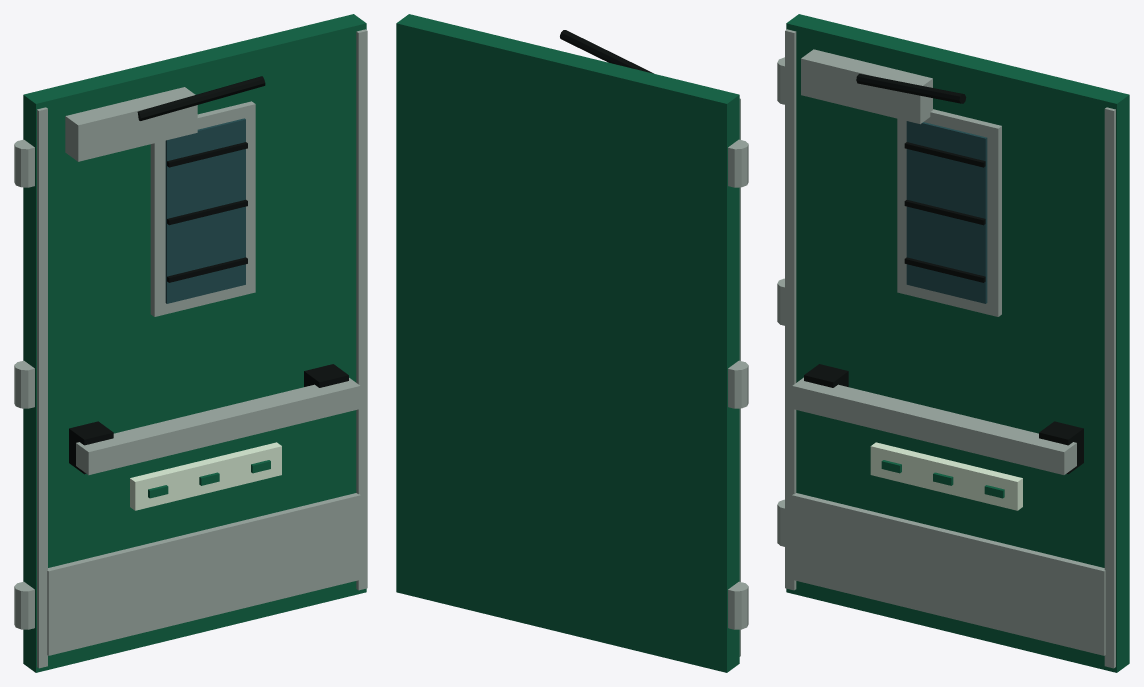
File: EmergencyExitDoor.obj
3 views of the same model, side by side, from view 1: azimuth 30°, elevation 25°; view 2: azimuth 150°, elevation 25°; view 3: azimuth 330°, elevation 25° (orthographic).
Visible parts, largest first — view 1: EmergencyExitDoor; view 2: EmergencyExitDoor; view 3: EmergencyExitDoor.
Part boxes in pixels (x1,y1,x2,y2): EmergencyExitDoor: [14, 14, 367, 672]; EmergencyExitDoor: [396, 14, 748, 672]; EmergencyExitDoor: [777, 14, 1129, 672].
Bounding box in the file's own units: 1.88 × 2.96 × 0.3847.
